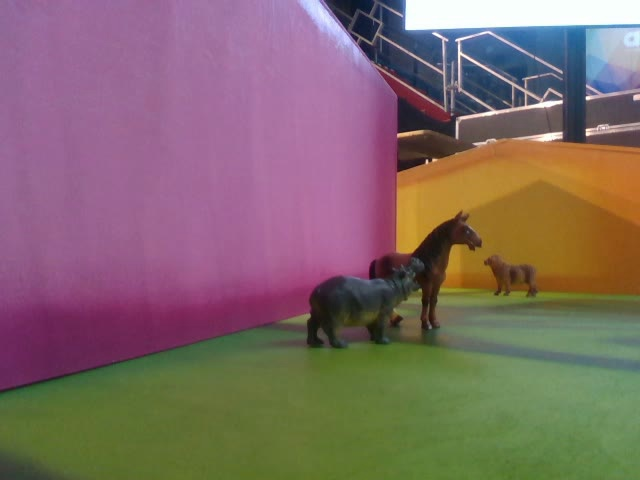toy: (306, 258, 426, 349), (482, 254, 538, 298)
